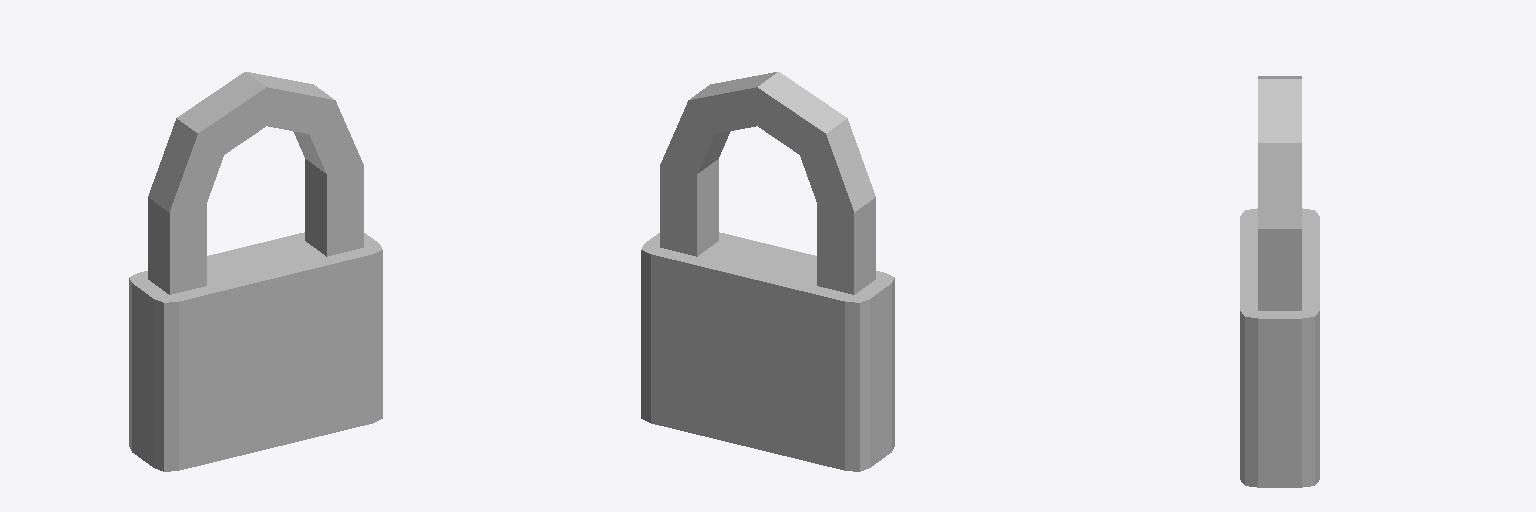
File: control-lock.obj
3 renders of one model, left to right at view 1: azimuth 30°, elevation 25°; view 2: azimuth 150°, elevation 25°; view 3: azimuth 270°, elevation 25°, orthographic.
Visible parts, largest first — view 1: Padlock; view 2: Padlock; view 3: Padlock.
Boxes of the visible parts, x1,y1,x2,y2 form: Padlock: [129, 72, 382, 471]; Padlock: [641, 72, 894, 471]; Padlock: [1240, 76, 1319, 487].
Bounding box in the file's own units: 0.0536 × 0.08 × 0.0163.